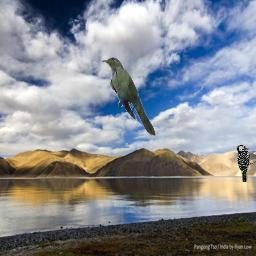Cuckoo: (102, 57, 158, 137)
Woodpecker: (236, 144, 256, 182)
